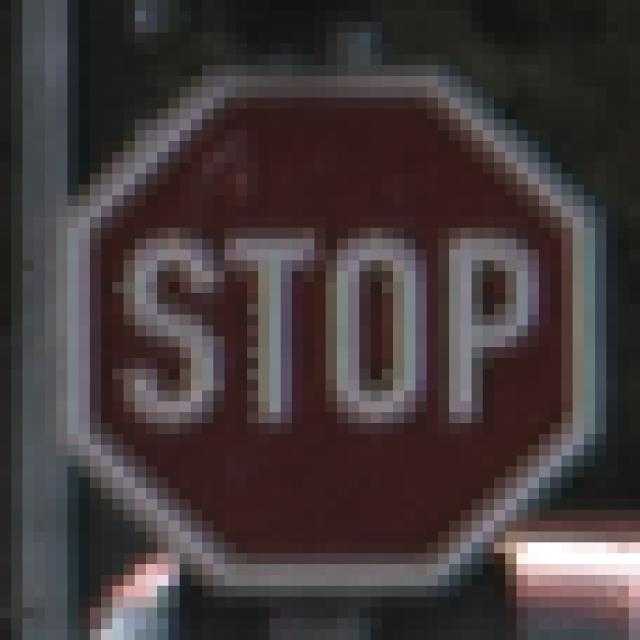STOP: (57, 66, 585, 576)
